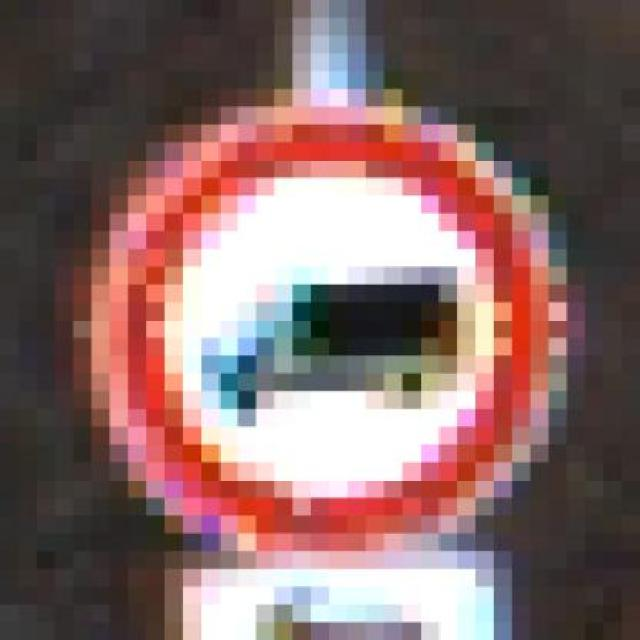Truck traffic is prohibited: (34, 78, 620, 594)
